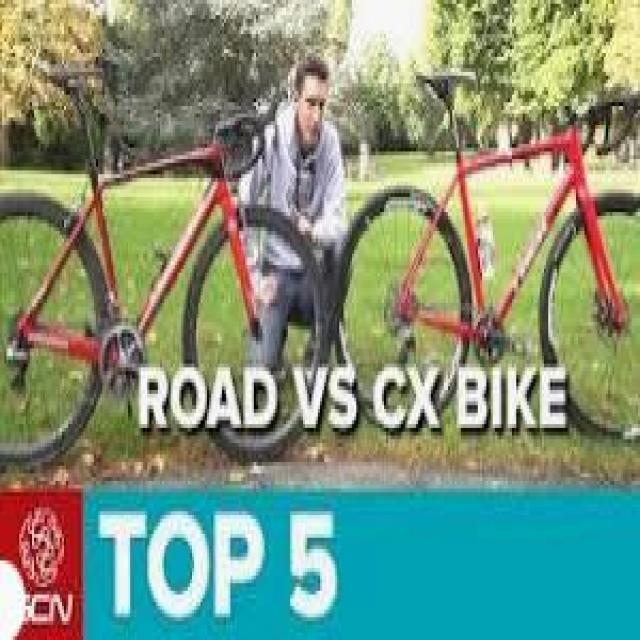bicycle: (347, 69, 637, 448), (5, 85, 285, 460)
